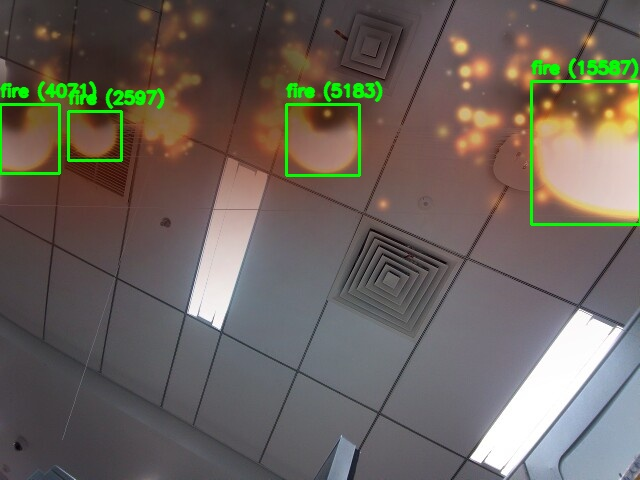fire: (531, 81, 640, 224), (286, 104, 359, 175), (0, 104, 59, 173), (68, 111, 121, 160)
